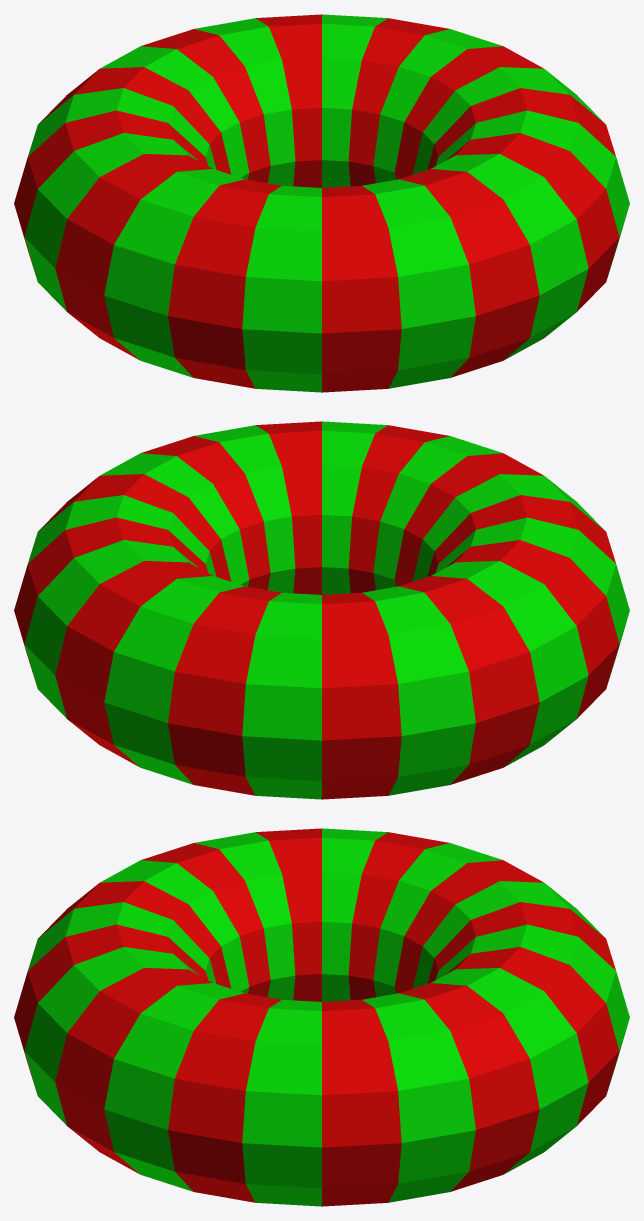
The model's file is torus_color.gltf.
The picture shows the model from 3 angles, top to bottom: view 1: azimuth 30°, elevation 25°; view 2: azimuth 150°, elevation 25°; view 3: azimuth 270°, elevation 25°; orthographic projection.
Visible parts, largest first — view 1: export_vertex_color; view 2: export_vertex_color; view 3: export_vertex_color.
Part boxes in pixels (<box>): export_vertex_color: <box>14,14,629,392</box>; export_vertex_color: <box>14,421,629,799</box>; export_vertex_color: <box>14,828,629,1206</box>.
Size of the model in its own units: 1.5 by 0.5 by 1.5.
